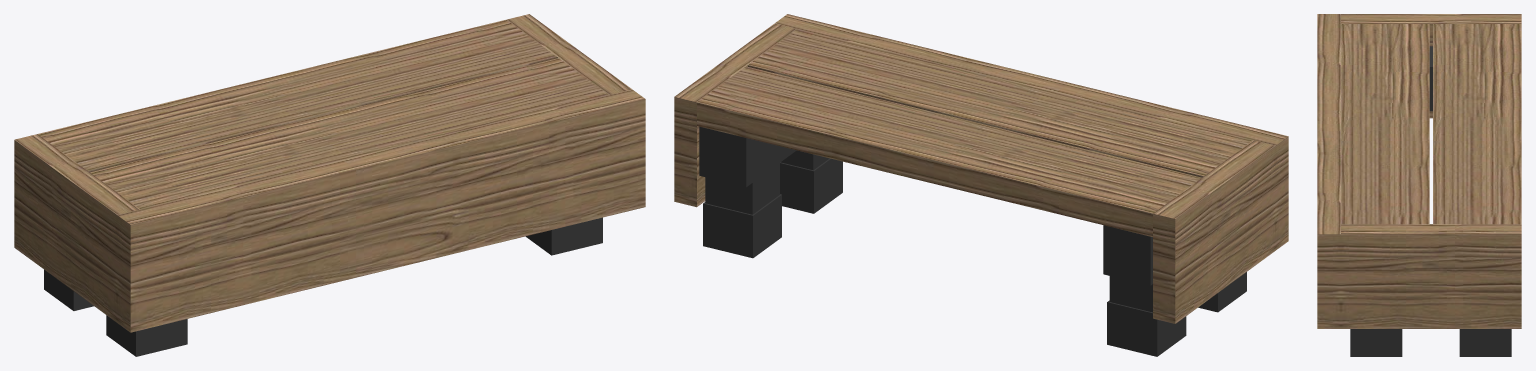
Rendered from tanmok-step_mutoso.fbx.
The picture shows the model from 3 angles, left to right: view 1: azimuth 30°, elevation 25°; view 2: azimuth 150°, elevation 25°; view 3: azimuth 270°, elevation 25°; orthographic projection. The views are drawn at different scales.
Visible parts, largest first — view 1: tanmok-step_mutoso; view 2: tanmok-step_mutoso; view 3: tanmok-step_mutoso.
Boxes of the visible parts, x1,y1,x2,y2 form: tanmok-step_mutoso: (14,14,645,356); tanmok-step_mutoso: (674,14,1288,356); tanmok-step_mutoso: (1317,14,1521,356).
Bounding box in the file's own units: 80 × 22.5 × 31.3.
2 materials, 2 textured.
